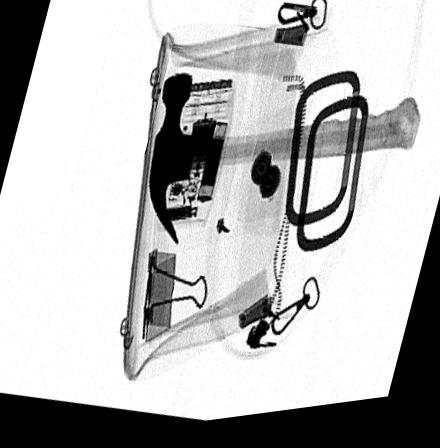Hammer: (147, 77, 420, 251)
